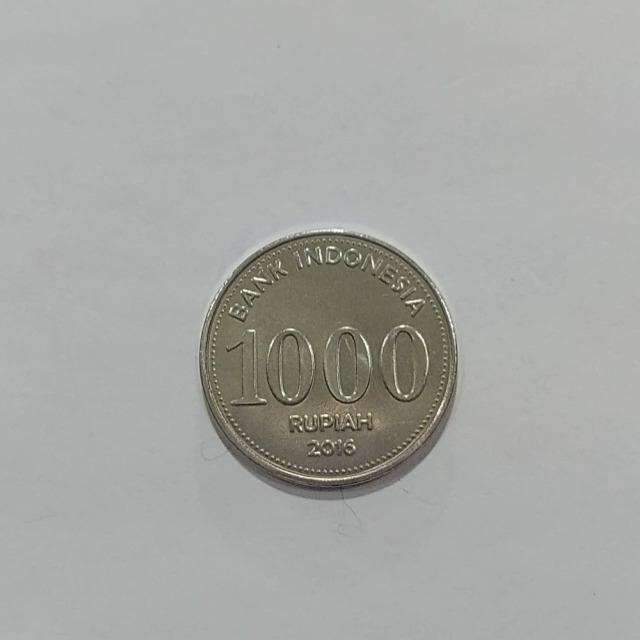Rp100: (197, 227, 459, 495)
